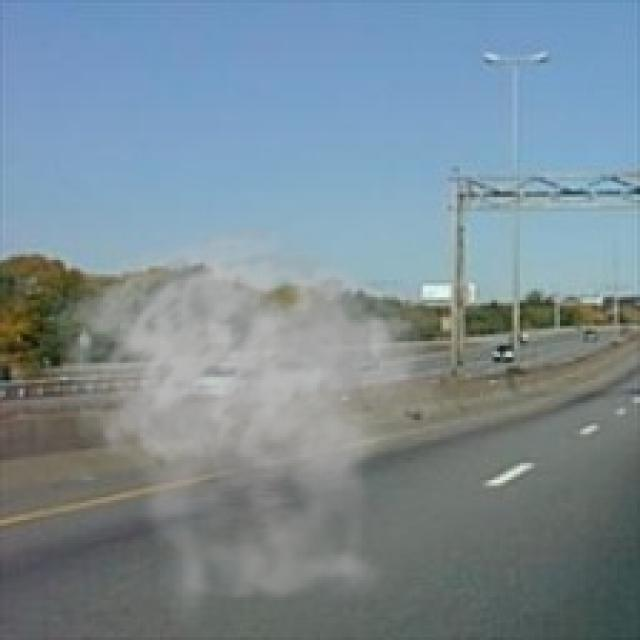smoke: (43, 226, 460, 637)
